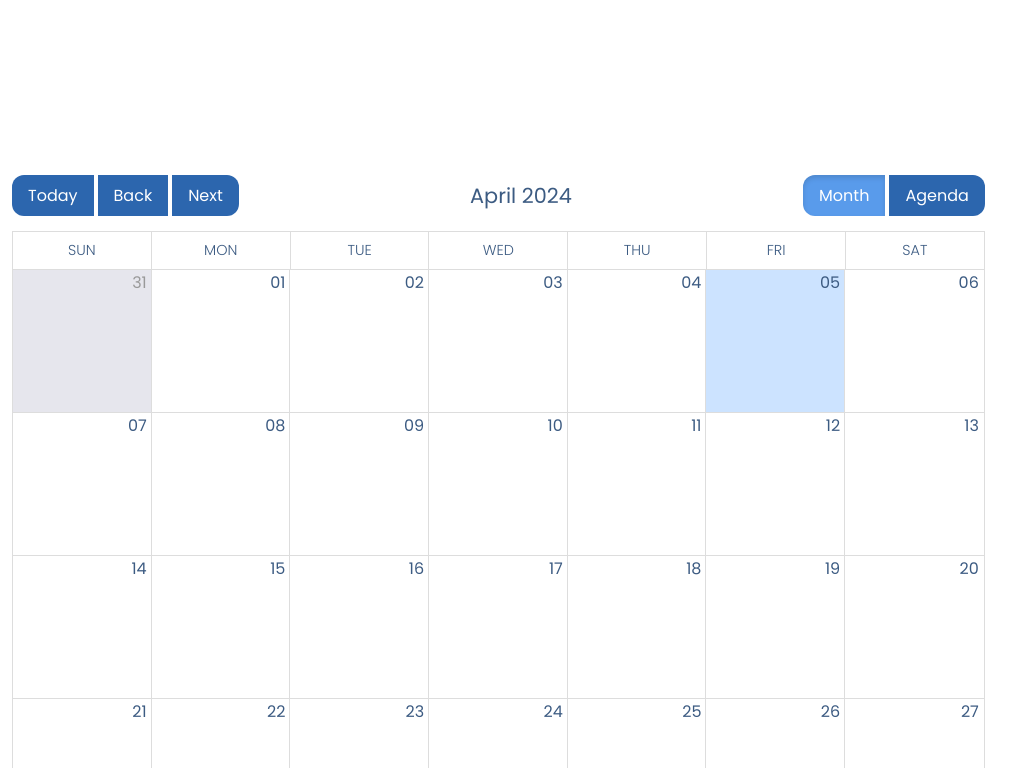
Calendar › next button switches calendar to the next month
Click the button "Next" at [205, 196], box [172, 175, 239, 216]
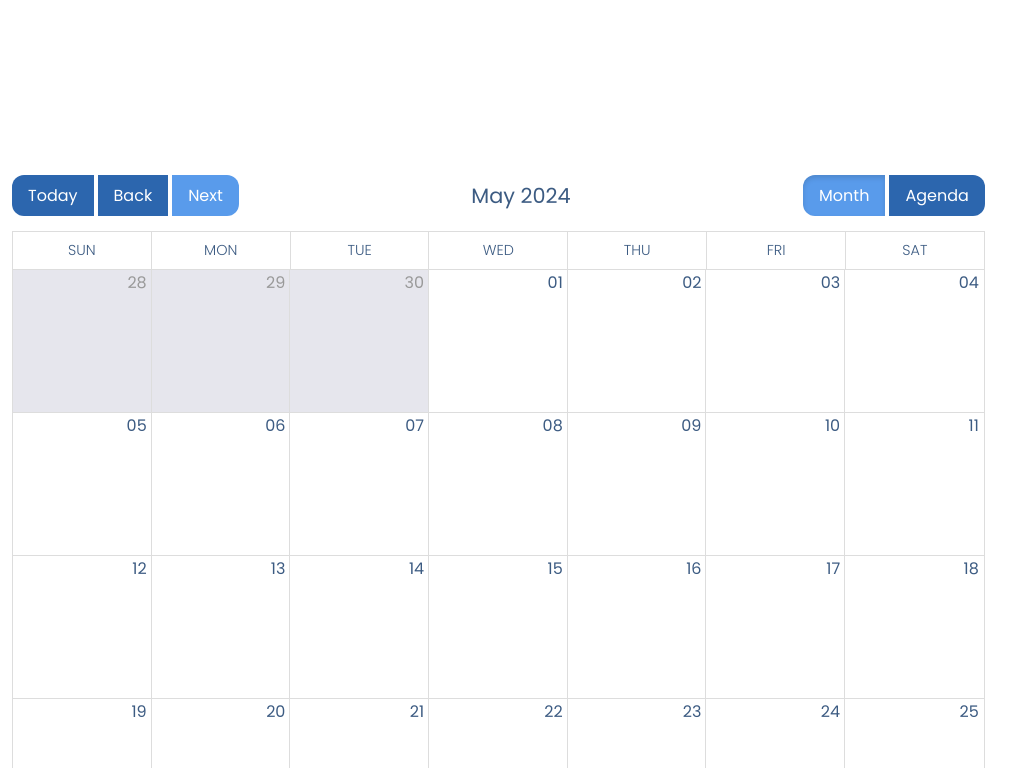
Now the text "May 2024" is shown, box [471, 181, 571, 210]
